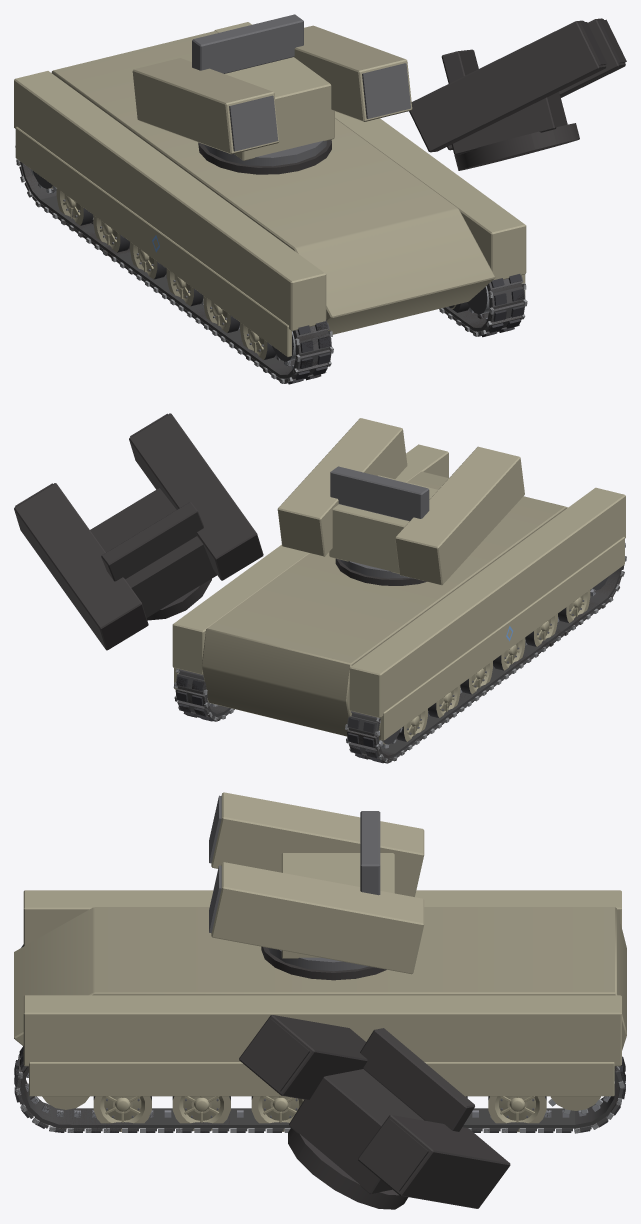
File: shortRangeSAM__k31_chunma.glb
3 renders of one model, top to bottom at view 1: azimuth 30°, elevation 25°; view 2: azimuth 150°, elevation 25°; view 3: azimuth 270°, elevation 25°, orthographic. The views are drawn at different scales.
Visible parts, largest first — view 1: Hull_Mesh, Wreck, Gun_Mesh, Turret_Mesh, Track_L_Mesh, Track_R_Mesh, Wheel_L1_Mesh, Wheel_L3_Mesh, Wheel_L0_Mesh, Wheel_L2_Mesh, Wheel_L4_Mesh, Wheel_L5_Mesh; view 2: Hull_Mesh, Wreck, Gun_Mesh, Turret_Mesh, Track_L_Mesh, Track_R_Mesh, Wheel_L5_Mesh, Wheel_L1_Mesh, Wheel_L2_Mesh, Wheel_L3_Mesh, Wheel_L4_Mesh, Wheel_L0_Mesh; view 3: Hull_Mesh, Wreck, Gun_Mesh, Track_R_Mesh, Turret_Mesh, Wheel_R0_Mesh, Wheel_R4_Mesh, Wheel_R5_Mesh, Wheel_R3_Mesh, Sprocket_R_Mesh.
Part boxes in pixels (bbox=[...]): Hull_Mesh: bbox=[14, 22, 526, 356]; Wreck: bbox=[16, 18, 626, 383]; Gun_Mesh: bbox=[132, 25, 412, 154]; Turret_Mesh: bbox=[192, 14, 334, 166]; Track_L_Mesh: bbox=[15, 146, 333, 384]; Track_R_Mesh: bbox=[439, 274, 527, 337]; Wheel_L1_Mesh: bbox=[93, 215, 129, 252]; Wheel_L3_Mesh: bbox=[166, 269, 203, 306]; Wheel_L0_Mesh: bbox=[56, 188, 93, 225]; Wheel_L2_Mesh: bbox=[130, 242, 166, 279]; Wheel_L4_Mesh: bbox=[203, 295, 239, 333]; Wheel_L5_Mesh: bbox=[240, 322, 275, 359]; Hull_Mesh: bbox=[172, 444, 625, 740]; Wreck: bbox=[14, 413, 626, 763]; Gun_Mesh: bbox=[277, 418, 524, 585]; Turret_Mesh: bbox=[329, 466, 437, 578]; Track_L_Mesh: bbox=[345, 543, 626, 763]; Track_R_Mesh: bbox=[174, 668, 234, 721]; Wheel_L5_Mesh: bbox=[558, 590, 590, 623]; Wheel_L1_Mesh: bbox=[428, 685, 460, 718]; Wheel_L2_Mesh: bbox=[460, 661, 492, 694]; Wheel_L3_Mesh: bbox=[493, 637, 525, 670]; Wheel_L4_Mesh: bbox=[525, 613, 557, 646]; Wheel_L0_Mesh: bbox=[397, 709, 427, 741]; Hull_Mesh: bbox=[14, 890, 626, 1096]; Wreck: bbox=[14, 946, 625, 1209]; Gun_Mesh: bbox=[209, 792, 424, 974]; Track_R_Mesh: bbox=[14, 1046, 625, 1133]; Turret_Mesh: bbox=[268, 811, 394, 971]; Wheel_R0_Mesh: bbox=[488, 1096, 546, 1132]; Wheel_R4_Mesh: bbox=[172, 1096, 230, 1130]; Wheel_R5_Mesh: bbox=[93, 1096, 151, 1131]; Wheel_R3_Mesh: bbox=[251, 1096, 303, 1131]; Sprocket_R_Mesh: bbox=[548, 1096, 602, 1114].
Size of what is drawn, in the model's own units: 7.08 by 2.92 by 6.83.
